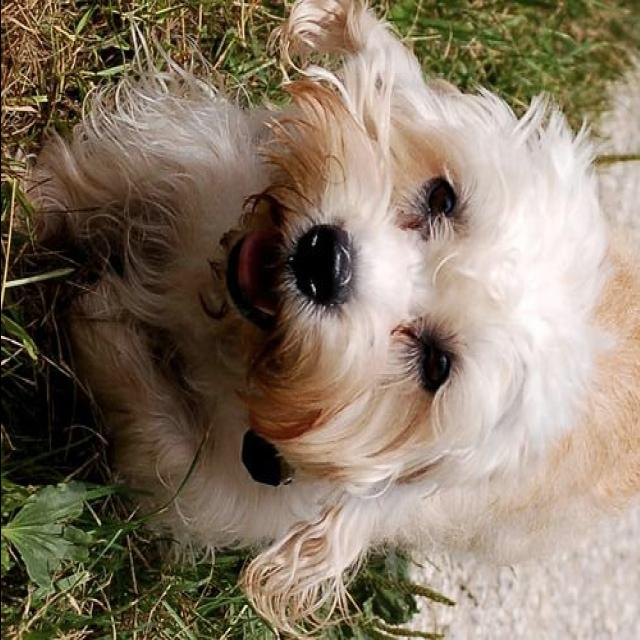dandie_dinmont: (5, 0, 639, 637)
